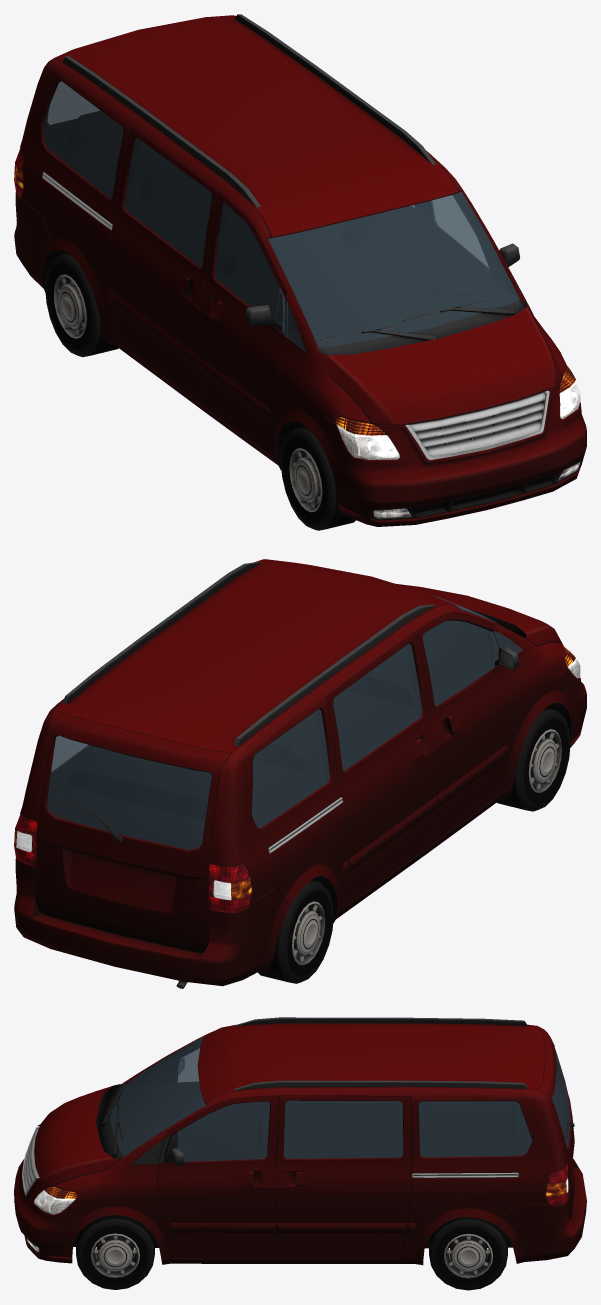
Rendered from road-van.glb.
The picture shows the model from 3 angles, top to bottom: view 1: azimuth 30°, elevation 25°; view 2: azimuth 150°, elevation 25°; view 3: azimuth 270°, elevation 25°; orthographic projection. The views are drawn at different scales.
Visible parts, largest first — view 1: Body, Wheel_FR, Wheel_RR; view 2: Body, Wheel_RR, Wheel_FR; view 3: Body, Wheel_FL, Wheel_RL.
Boxes of the visible parts, bbox=[...] form: Body: bbox=[14, 14, 586, 526]; Wheel_FR: bbox=[281, 426, 355, 530]; Wheel_RR: bbox=[45, 253, 118, 357]; Body: bbox=[14, 559, 586, 988]; Wheel_RR: bbox=[258, 880, 333, 983]; Wheel_FR: bbox=[497, 707, 570, 811]; Body: bbox=[14, 1017, 586, 1264]; Wheel_FL: bbox=[76, 1215, 154, 1289]; Wheel_RL: bbox=[429, 1217, 507, 1290].
Size of the model in its own units: 2.03 by 1.91 by 5.
5 materials, 4 textured.
